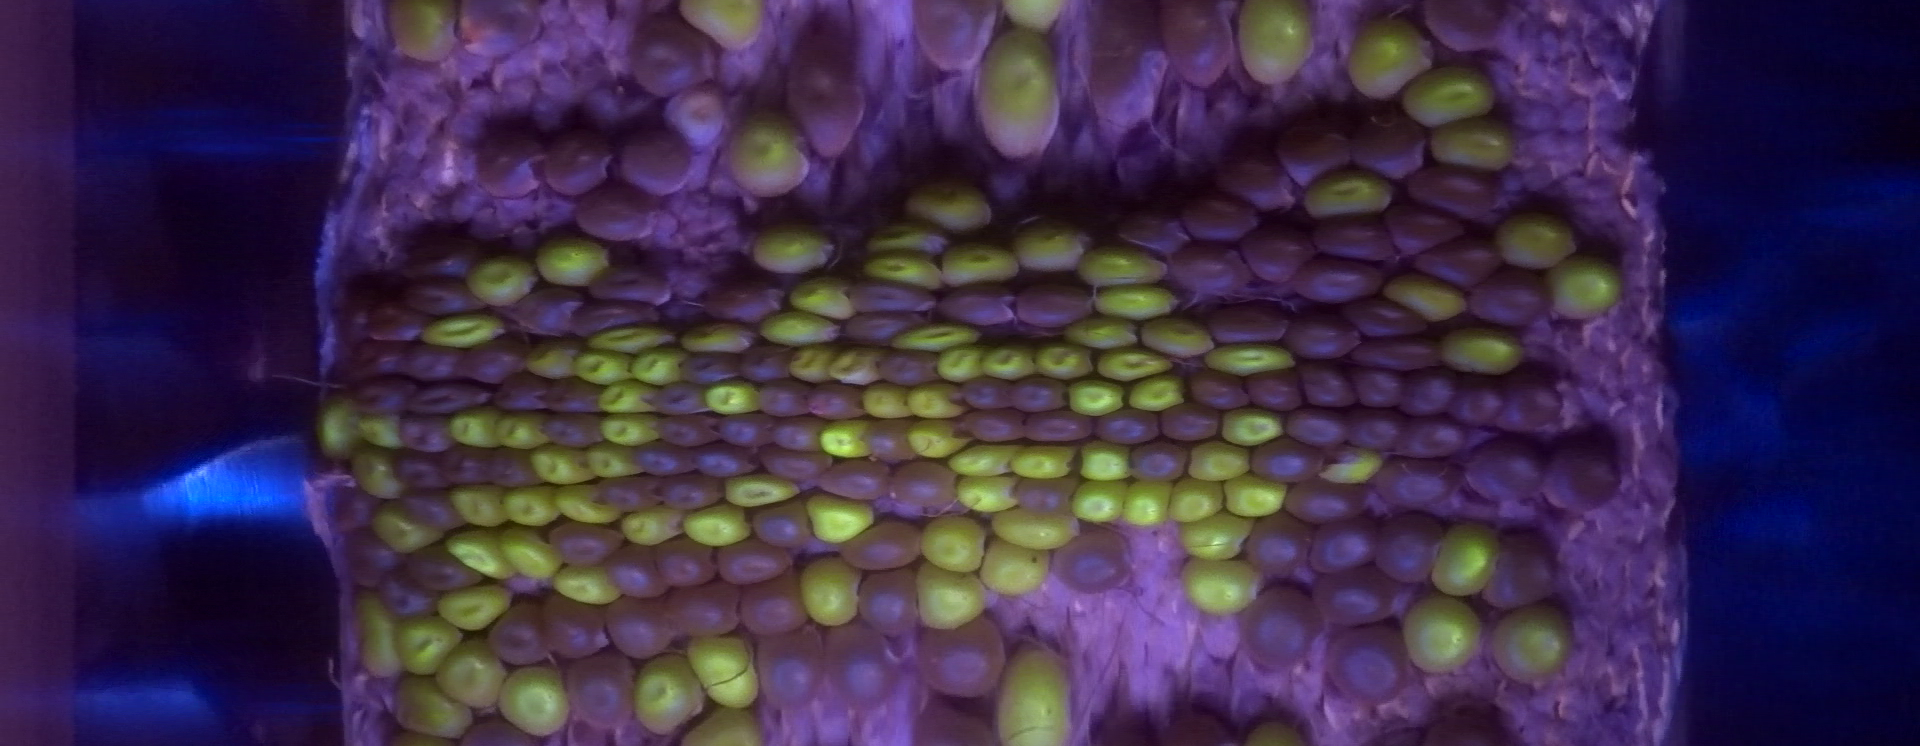fluorescent: (988, 642, 1082, 744), (980, 38, 1056, 160), (1398, 597, 1485, 673), (1351, 18, 1430, 100), (1238, 4, 1311, 89), (1494, 604, 1571, 685), (730, 115, 808, 194), (1396, 66, 1498, 125), (684, 633, 760, 702), (493, 673, 571, 736), (636, 657, 698, 733), (900, 181, 991, 233), (1187, 557, 1259, 620), (1496, 208, 1575, 266), (1008, 218, 1085, 274), (915, 568, 984, 630), (1434, 529, 1493, 601), (673, 1, 758, 51), (677, 699, 770, 745), (798, 561, 860, 628), (1303, 174, 1393, 219), (1425, 125, 1513, 171), (1547, 258, 1618, 316), (384, 2, 456, 59), (748, 222, 831, 269), (436, 647, 502, 707), (430, 582, 511, 631), (981, 539, 1049, 597), (447, 524, 511, 586), (993, 510, 1080, 554), (1441, 330, 1523, 376), (1387, 274, 1467, 321), (804, 492, 872, 545), (922, 513, 984, 570), (356, 597, 399, 677), (391, 688, 471, 731), (538, 235, 602, 288), (1116, 473, 1176, 528), (369, 507, 440, 552), (686, 502, 751, 551), (940, 245, 1018, 285), (467, 258, 535, 303), (1078, 249, 1166, 283), (315, 399, 364, 461), (498, 528, 561, 576), (1007, 442, 1076, 484), (393, 619, 447, 673), (1180, 518, 1249, 560), (786, 274, 852, 317), (1145, 315, 1215, 355), (1093, 284, 1176, 318), (1164, 479, 1224, 526), (420, 314, 498, 349), (529, 446, 595, 488), (1184, 440, 1250, 481), (587, 441, 647, 486), (1096, 345, 1172, 381), (1224, 474, 1287, 517), (944, 442, 1015, 479), (615, 506, 683, 544), (724, 470, 796, 506), (867, 257, 944, 290), (447, 486, 508, 528), (816, 419, 876, 461), (560, 486, 624, 524), (549, 572, 626, 604), (504, 483, 557, 529), (1206, 347, 1297, 374), (760, 316, 842, 345), (1220, 405, 1281, 445), (351, 452, 404, 497), (894, 325, 982, 352), (1071, 481, 1127, 524), (1073, 443, 1134, 481), (867, 220, 945, 250), (631, 345, 682, 390), (825, 344, 883, 383), (953, 478, 1018, 512), (451, 408, 500, 453), (683, 321, 756, 352), (1070, 377, 1127, 416), (497, 410, 550, 452), (520, 342, 582, 377), (909, 383, 967, 420), (1130, 374, 1187, 412), (905, 419, 959, 458), (598, 382, 658, 416), (1325, 448, 1382, 484), (1242, 713, 1305, 745), (707, 380, 762, 416), (588, 327, 670, 352), (1067, 317, 1138, 345), (862, 382, 915, 420), (980, 344, 1032, 380), (1037, 344, 1092, 377), (934, 348, 983, 385), (358, 414, 404, 452), (790, 345, 835, 381), (595, 419, 660, 443), (999, 1, 1060, 27), (574, 355, 629, 382)
nonfluorescent: (1080, 1, 1174, 138), (781, 36, 867, 168), (912, 612, 1013, 701), (624, 9, 715, 105), (817, 620, 906, 714), (1233, 583, 1322, 673), (1476, 524, 1561, 612), (1157, 1, 1238, 93), (909, 1, 1009, 75), (1319, 619, 1407, 702), (1543, 432, 1626, 521), (747, 628, 831, 714), (470, 122, 556, 205), (1460, 265, 1559, 334), (557, 648, 640, 730), (1344, 105, 1431, 183), (1463, 431, 1551, 507), (1209, 151, 1304, 218), (611, 126, 697, 200), (1048, 526, 1135, 598), (1371, 454, 1473, 516), (535, 588, 615, 665), (1310, 565, 1401, 632), (1400, 159, 1501, 219), (571, 183, 666, 246), (1370, 510, 1449, 587), (453, 1, 552, 61), (1305, 209, 1404, 269), (1271, 122, 1360, 187), (1276, 473, 1375, 529), (836, 516, 931, 575), (1382, 198, 1469, 262), (1166, 239, 1258, 299), (656, 82, 732, 154), (1287, 254, 1389, 307), (538, 131, 616, 201), (853, 567, 928, 639), (604, 595, 681, 665), (1305, 514, 1387, 578), (662, 581, 746, 643), (737, 575, 817, 639), (479, 603, 553, 671), (1416, 1, 1506, 58), (1407, 236, 1504, 289), (1243, 510, 1315, 579), (1240, 434, 1330, 489), (1340, 292, 1435, 343), (1177, 191, 1264, 247), (1487, 372, 1567, 432), (396, 544, 489, 595), (337, 527, 413, 588), (1240, 220, 1318, 281), (1278, 309, 1364, 363), (696, 278, 795, 325), (396, 236, 485, 288), (887, 456, 966, 513), (1007, 281, 1101, 328), (452, 337, 536, 390), (598, 540, 670, 601), (508, 285, 588, 341), (1114, 205, 1195, 258), (711, 539, 804, 586), (845, 274, 945, 317), (1344, 336, 1450, 376), (540, 519, 633, 565), (647, 537, 726, 589), (1202, 300, 1292, 347), (584, 265, 678, 309), (564, 293, 661, 336), (397, 377, 496, 419), (1444, 370, 1510, 432), (933, 282, 1021, 328), (816, 457, 895, 507), (400, 274, 489, 320), (744, 499, 818, 552), (371, 567, 446, 620), (752, 442, 838, 488), (1294, 356, 1363, 412), (1280, 404, 1354, 454), (1393, 415, 1472, 463), (1239, 365, 1310, 418), (1183, 367, 1259, 416), (399, 339, 473, 388), (396, 490, 473, 537), (362, 295, 433, 345), (1393, 369, 1458, 423), (1156, 401, 1227, 450), (688, 439, 767, 483), (839, 307, 929, 345), (874, 342, 945, 390), (1124, 436, 1195, 484), (1344, 364, 1412, 413), (1007, 475, 1081, 519), (595, 470, 667, 516), (954, 405, 1032, 447), (658, 472, 730, 516), (861, 415, 922, 467), (538, 409, 611, 452), (481, 443, 545, 492), (431, 443, 495, 492), (331, 292, 384, 348), (336, 338, 410, 379), (535, 375, 607, 416), (487, 370, 553, 415), (1089, 405, 1167, 443), (387, 450, 454, 494), (951, 375, 1022, 416), (631, 439, 702, 480), (1340, 410, 1408, 453), (1022, 407, 1098, 445), (1008, 372, 1073, 416), (803, 380, 869, 423), (642, 381, 715, 419), (711, 412, 781, 451), (736, 342, 796, 387), (649, 413, 722, 450), (329, 488, 384, 537), (675, 349, 746, 387), (754, 375, 813, 419), (343, 379, 413, 414), (768, 414, 828, 454), (396, 412, 459, 450)
